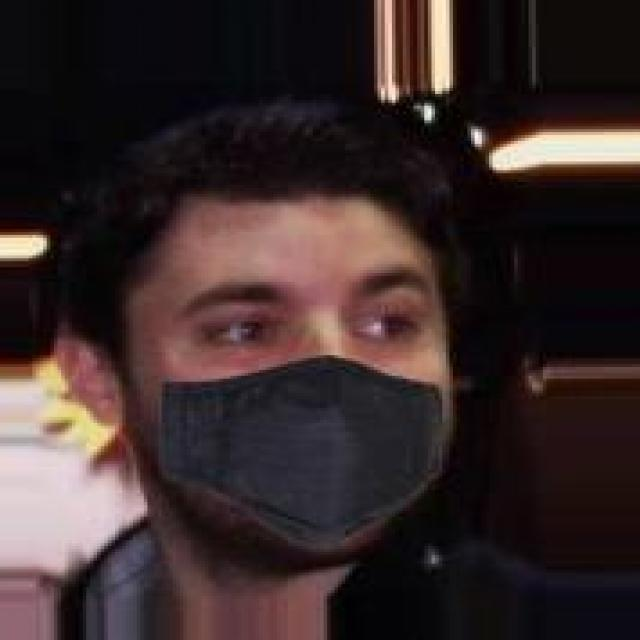mask: (43, 80, 496, 578)
